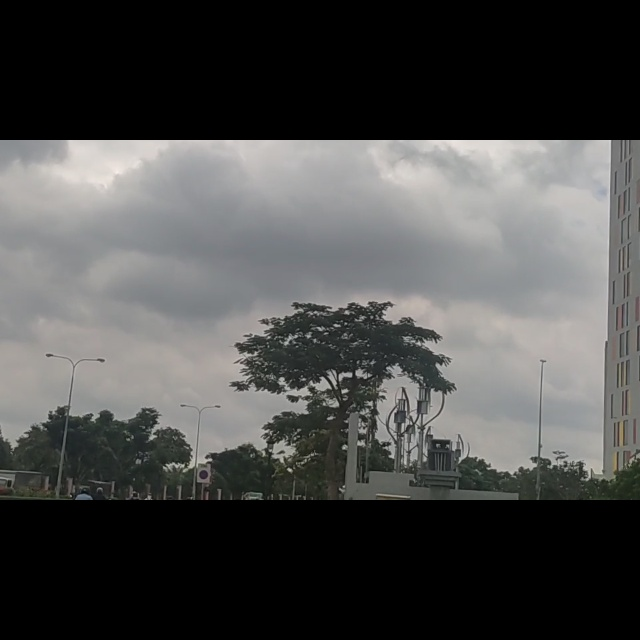bien_cam: (199, 585, 209, 606)
